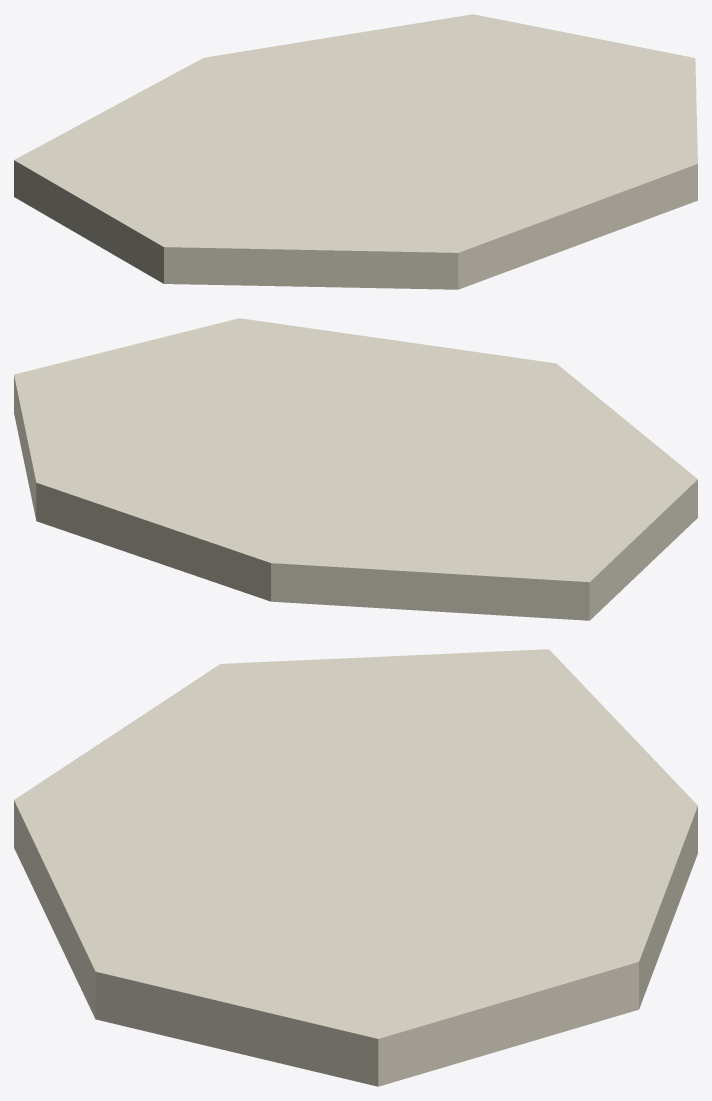
Rendered from stepping_stone.fbx.
The picture shows the model from 3 angles, top to bottom: view 1: azimuth 30°, elevation 25°; view 2: azimuth 150°, elevation 25°; view 3: azimuth 270°, elevation 25°; orthographic projection. The views are drawn at different scales.
Parts seen in each view (by area): view 1: Stone; view 2: Stone; view 3: Stone.
Part boxes in pixels (bbox=[...]): Stone: bbox=[14, 14, 697, 289]; Stone: bbox=[14, 318, 697, 620]; Stone: bbox=[14, 649, 697, 1086].
Bounding box in the file's own units: 0.9619 × 0.055 × 0.7133.
